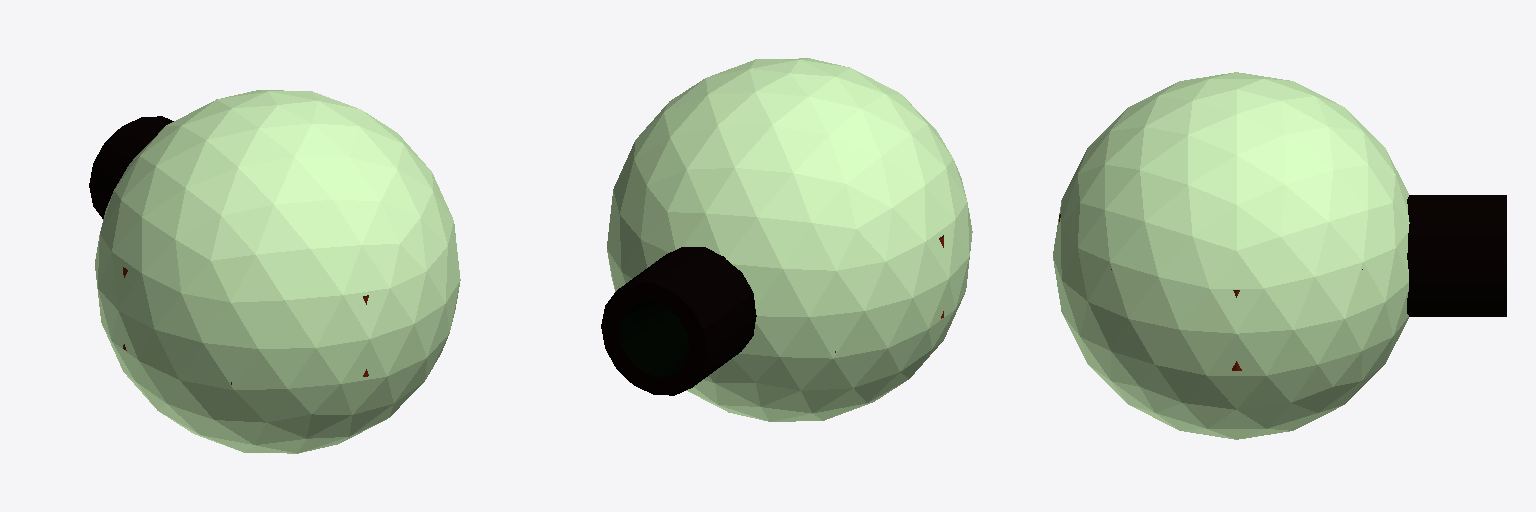
The model's file is cannoneer.obj.
3 renders of one model, left to right at view 1: azimuth 30°, elevation 25°; view 2: azimuth 150°, elevation 25°; view 3: azimuth 270°, elevation 25°, orthographic.
Visible parts, largest first — view 1: shield_shield_shield, cannon_cannon_cannon; view 2: shield_shield_shield, cannon_cannon_cannon, cannon_cannon_inner; view 3: shield_shield_shield, cannon_cannon_cannon.
Boxes of the visible parts, <box> form: shield_shield_shield: <box>95,90,460,453</box>; cannon_cannon_cannon: <box>89,116,173,218</box>; shield_shield_shield: <box>607,58,972,421</box>; cannon_cannon_cannon: <box>601,247,756,395</box>; cannon_cannon_inner: <box>619,301,689,376</box>; shield_shield_shield: <box>1053,72,1409,439</box>; cannon_cannon_cannon: <box>1407,195,1506,316</box>.
Size of the model in its own units: 2.07 by 2.07 by 2.56.